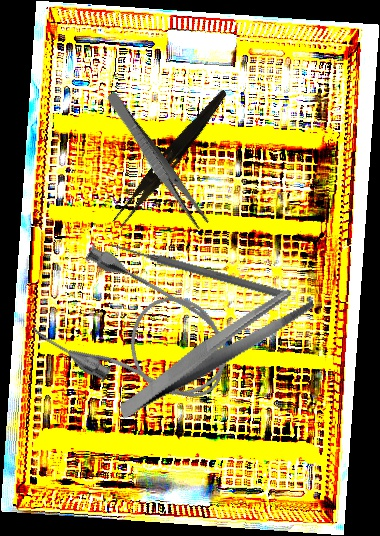Cannula: (26, 237, 249, 431)
Dressing Forceps: (101, 283, 330, 420), (111, 83, 230, 233), (102, 90, 211, 231)
Pusher: (109, 239, 287, 301)
